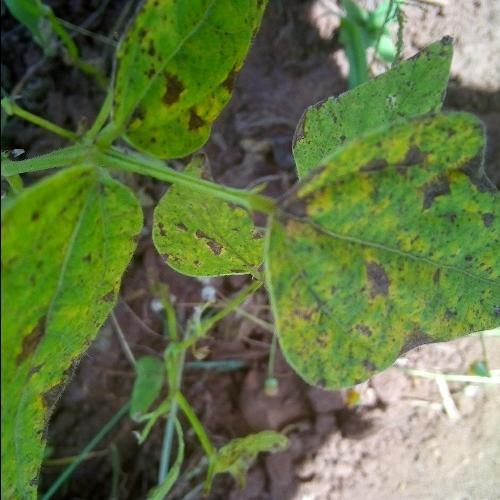hawar: (257, 99, 489, 363), (4, 205, 91, 467), (112, 0, 238, 161), (168, 181, 246, 291)
